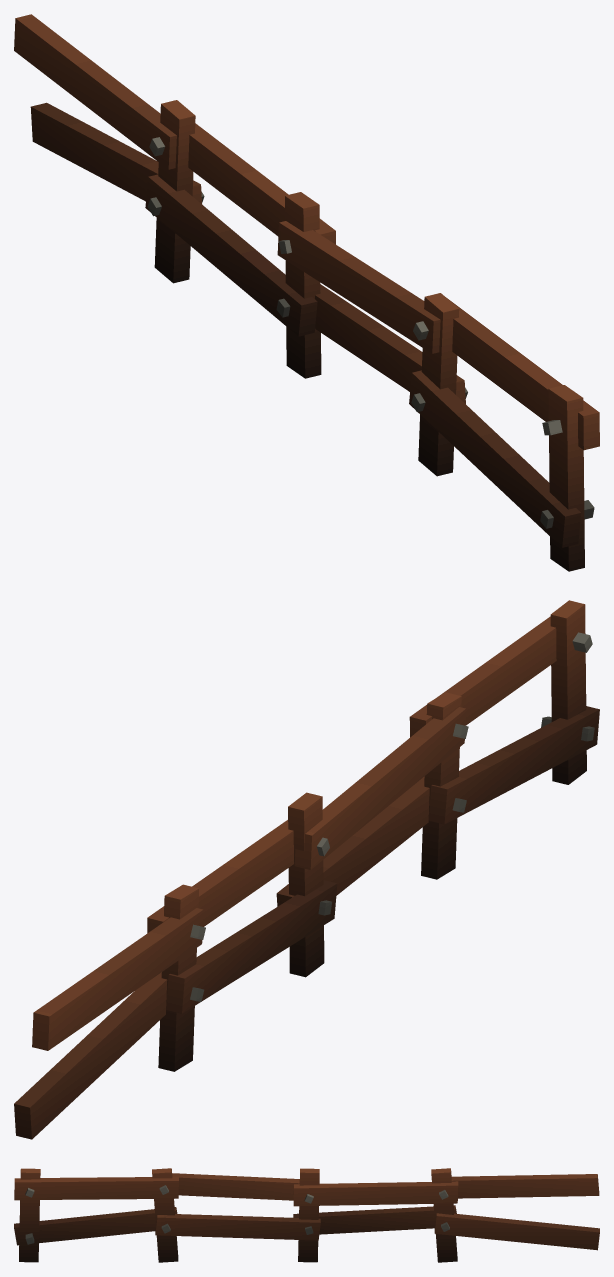
Rendered from FenceSingleCap.glb.
The picture shows the model from 3 angles, top to bottom: view 1: azimuth 30°, elevation 25°; view 2: azimuth 150°, elevation 25°; view 3: azimuth 270°, elevation 25°; orthographic projection. The views are drawn at different scales.
Visible parts, largest first — view 1: FenceSingleCap.col; view 2: FenceSingleCap.col; view 3: FenceSingleCap.col.
Part boxes in pixels (x1,y1,x2,y2): FenceSingleCap.col: [14, 14, 599, 571]; FenceSingleCap.col: [14, 600, 599, 1139]; FenceSingleCap.col: [14, 1168, 599, 1262].
Bounding box in the file's own units: 0.3603 × 1.21 × 7.14.
Materials: 1 (1 with a texture image).
